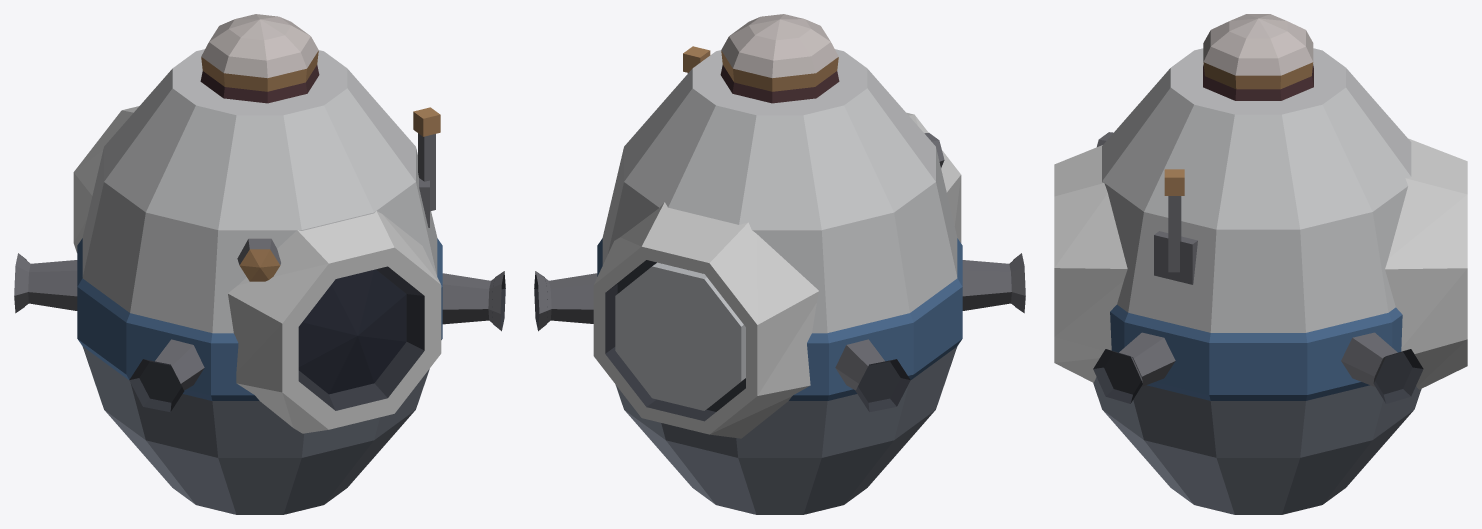
File: escape-pod-49232b.glb
3 renders of one model, left to right at view 1: azimuth 30°, elevation 25°; view 2: azimuth 150°, elevation 25°; view 3: azimuth 270°, elevation 25°, orthographic.
Visible parts, largest first — view 1: escape-pod, antenna; view 2: escape-pod, hatch; view 3: escape-pod, antenna.
Part boxes in pixels (bbox=[...]): escape-pod: bbox=[14, 14, 505, 514]; antenna: bbox=[413, 107, 440, 211]; escape-pod: bbox=[534, 14, 1025, 514]; hatch: bbox=[615, 262, 745, 410]; escape-pod: bbox=[1054, 14, 1467, 514]; antenna: bbox=[1164, 169, 1184, 272].
Size of the model in its own units: 1.66 by 1.93 by 1.57.
